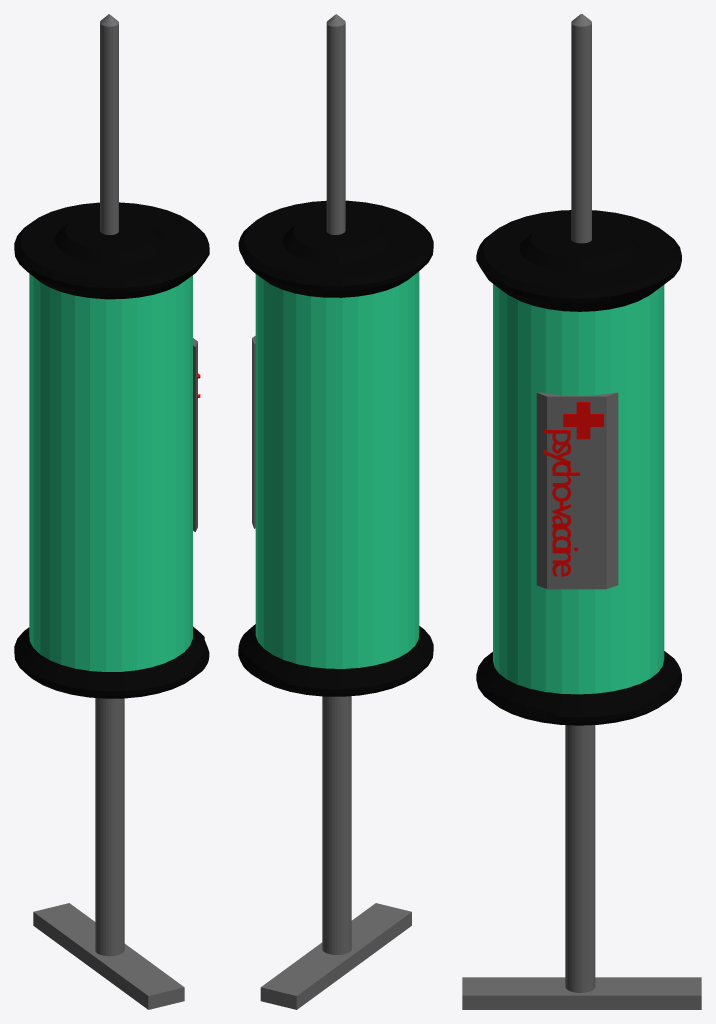
The model's file is psycho-vaccine.fbx.
3 views of the same model, side by side, from view 1: azimuth 30°, elevation 25°; view 2: azimuth 150°, elevation 25°; view 3: azimuth 270°, elevation 25° (orthographic). The views are drawn at different scales.
Parts seen in each view (by area): view 1: Цилиндр.003; view 2: Цилиндр.003; view 3: Цилиндр.003, psycho-vacsine.
Part boxes in pixels (x1,y1,x2,y2): Цилиндр.003: (14,14,209,1009); Цилиндр.003: (238,14,433,1009); Цилиндр.003: (462,14,701,1009); psycho-vacsine: (543,429,579,576).
Size of the model in its own units: 175 by 941 by 207.
